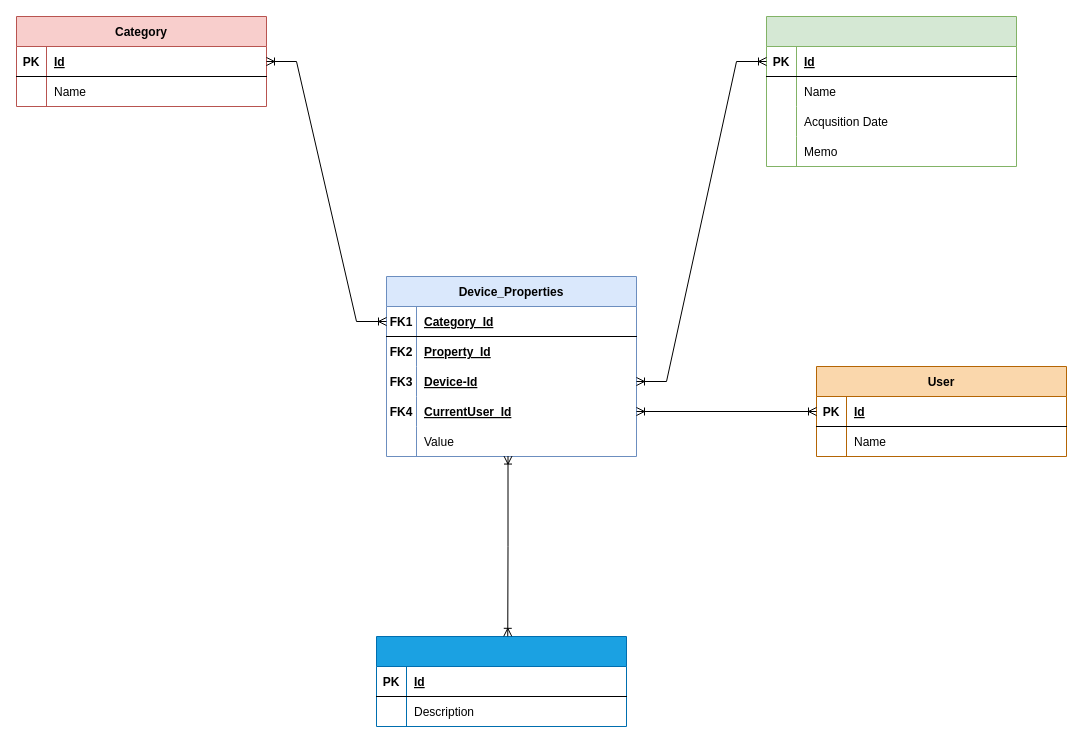
This 1083x743 diagram has some shape labels left out. Each missing label, with the box of its shape:
Device: (766, 16, 1016, 166)
Properties: (376, 636, 626, 726)
